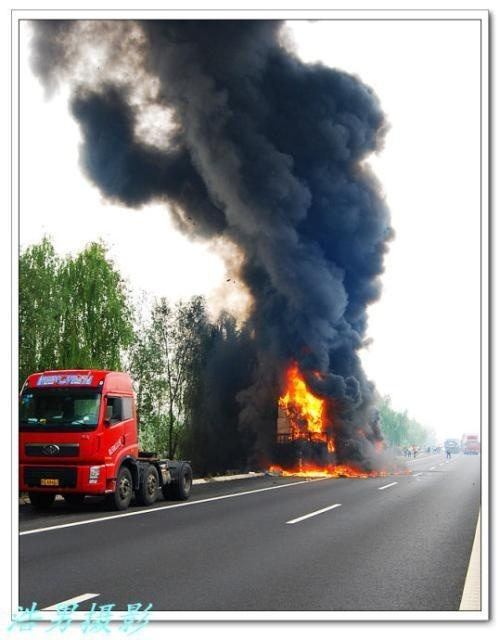fire: (276, 368, 369, 476)
